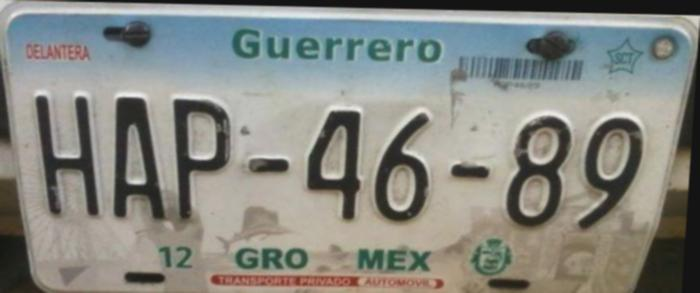License_Plate: (0, 15, 669, 293)
